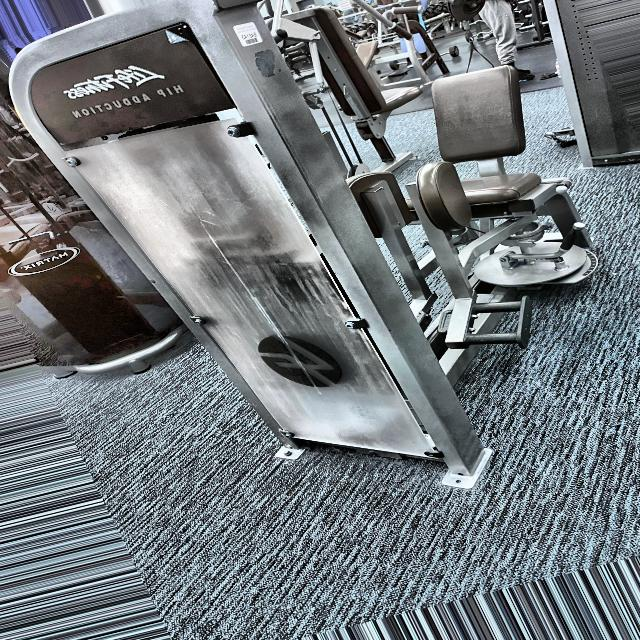hip_adduction_machine: (387, 8, 609, 388), (56, 74, 194, 148)
